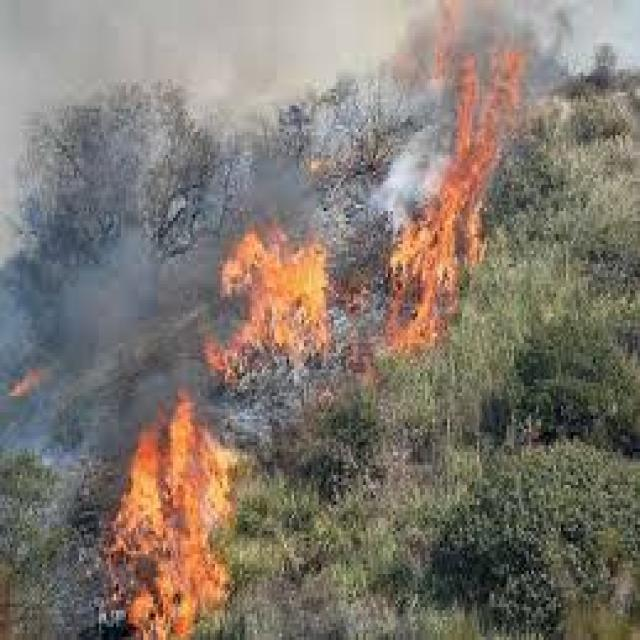Fire: (371, 0, 534, 353), (96, 387, 250, 640), (199, 226, 346, 382), (2, 358, 59, 408), (311, 148, 325, 184)
Smoke: (0, 0, 640, 188), (0, 190, 196, 392)
